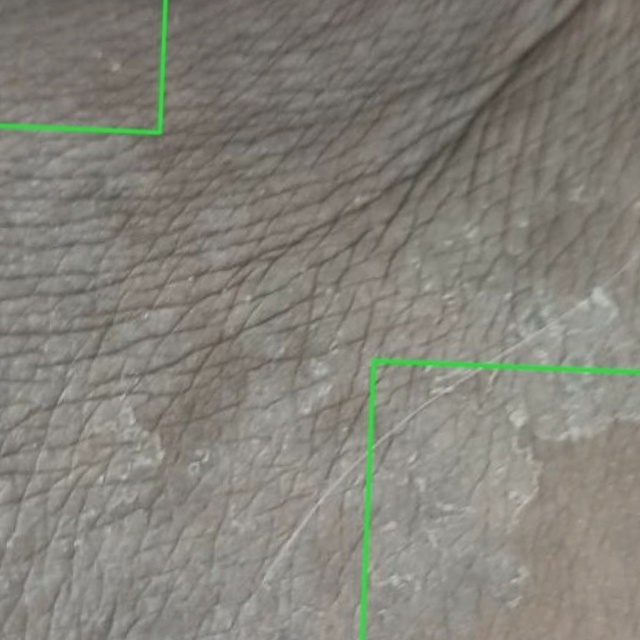Eczema: (361, 360, 639, 639), (0, 0, 165, 132)
